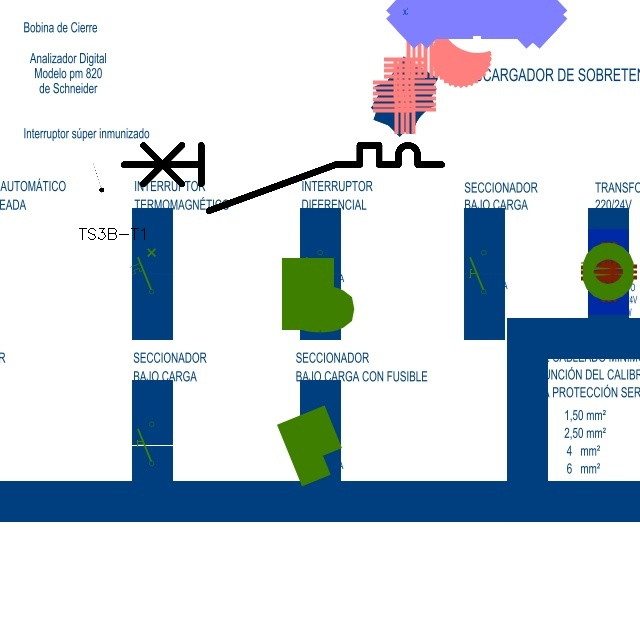interruptor_termomagnetico: (115, 137, 450, 219)
